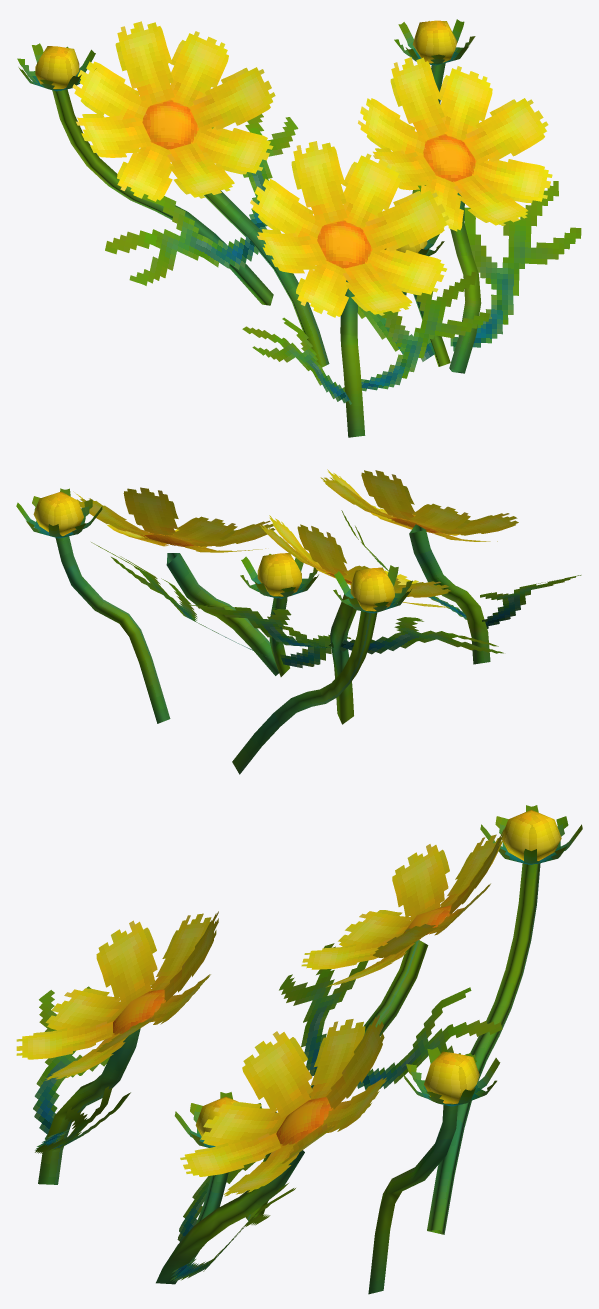
The model's file is yellow-cosmos.glb.
3 renders of one model, top to bottom at view 1: azimuth 30°, elevation 25°; view 2: azimuth 150°, elevation 25°; view 3: azimuth 270°, elevation 25°, orthographic. The views are drawn at different scales.
Bounding box in the file's own units: 10.23 × 6.53 × 9.6.
2 materials, 2 textured.
